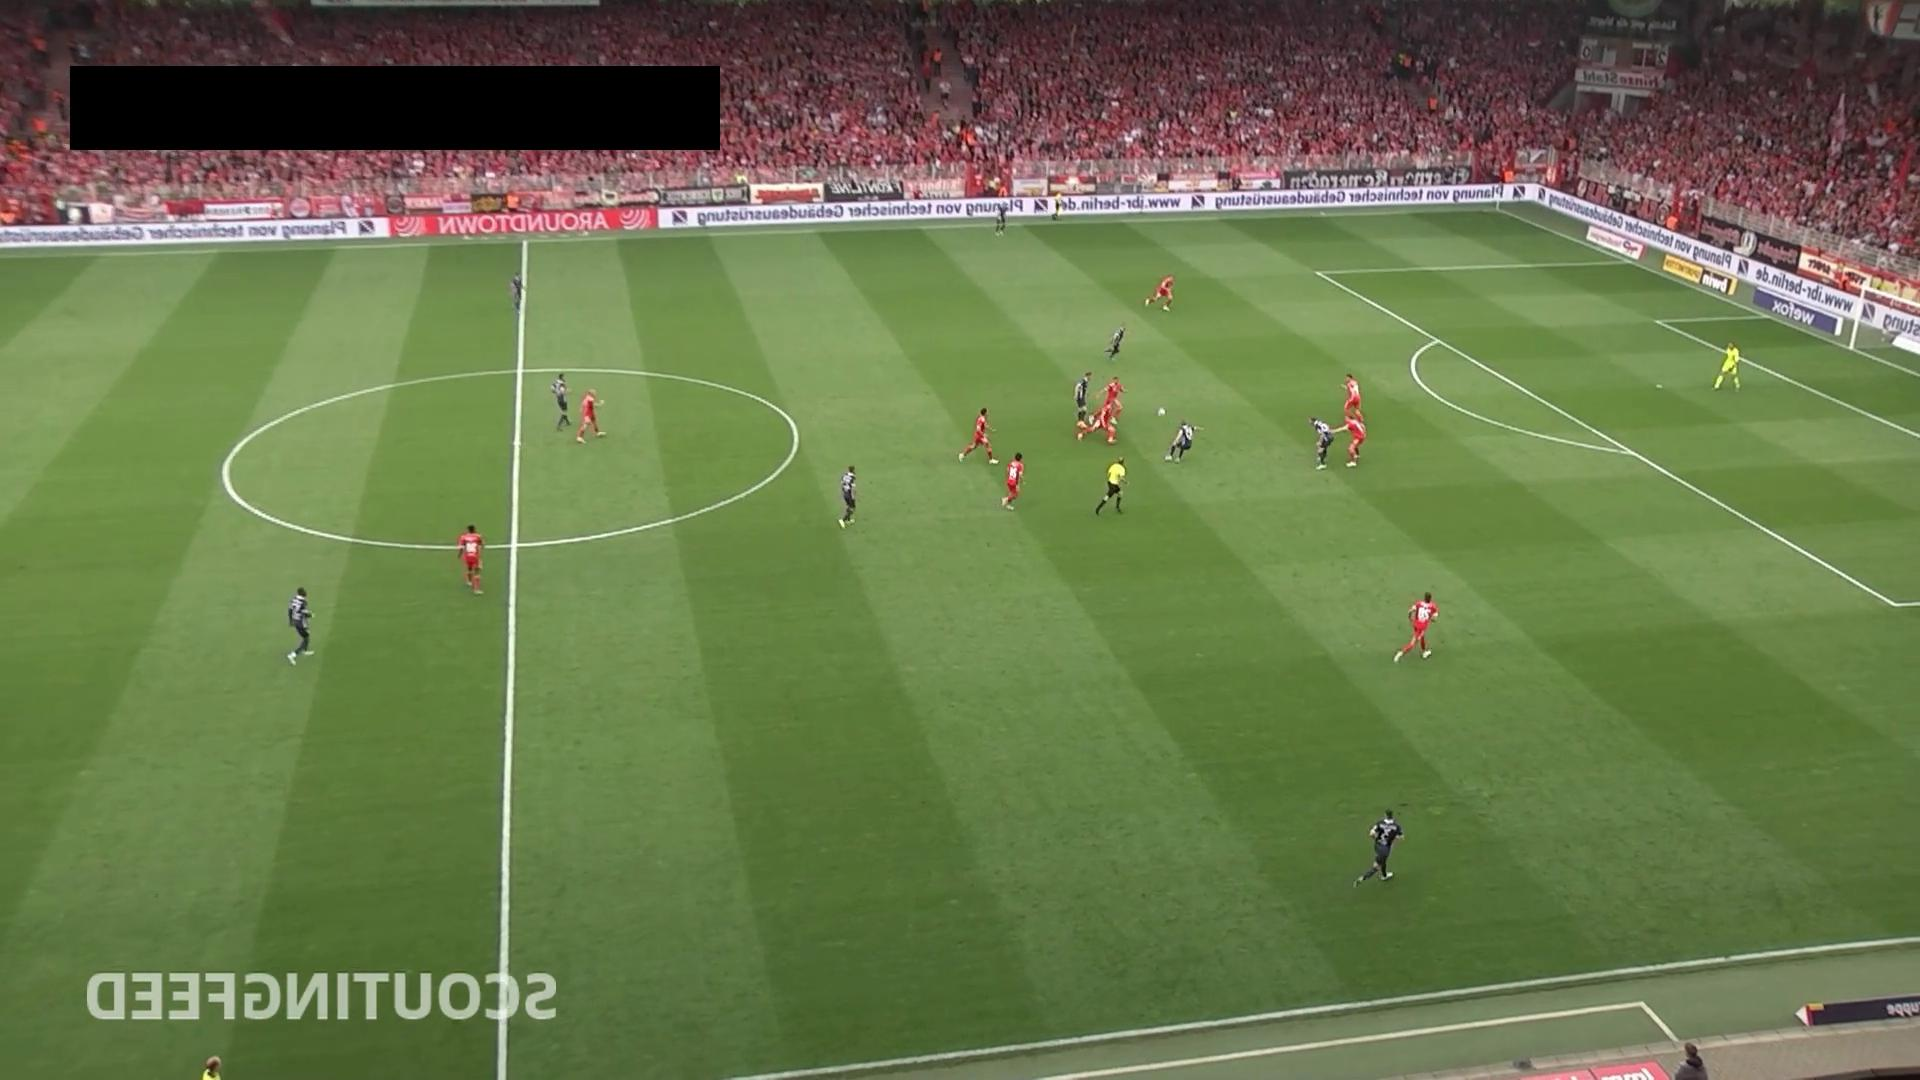ball: (1156, 406, 1167, 419)
goalkeeper: (1712, 341, 1742, 392)
player: (1353, 809, 1404, 886), (1392, 591, 1440, 663), (286, 586, 316, 666), (958, 408, 1000, 465), (1089, 374, 1129, 426), (456, 523, 485, 594), (1329, 415, 1366, 468), (1163, 420, 1204, 465), (1076, 400, 1118, 443), (575, 388, 606, 443), (1000, 451, 1026, 510), (1308, 416, 1336, 470), (1339, 372, 1365, 424), (550, 372, 572, 431), (838, 465, 858, 528), (1145, 275, 1175, 311), (1075, 370, 1093, 427), (1103, 322, 1129, 360), (508, 271, 525, 312), (995, 204, 1007, 236)
referee: (1095, 456, 1128, 516), (1050, 191, 1063, 222)
